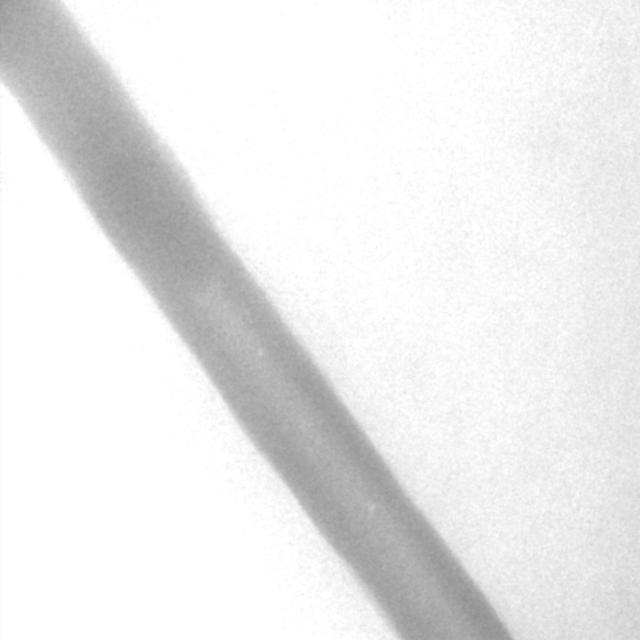air hole: (367, 499, 377, 514), (255, 345, 264, 358)
